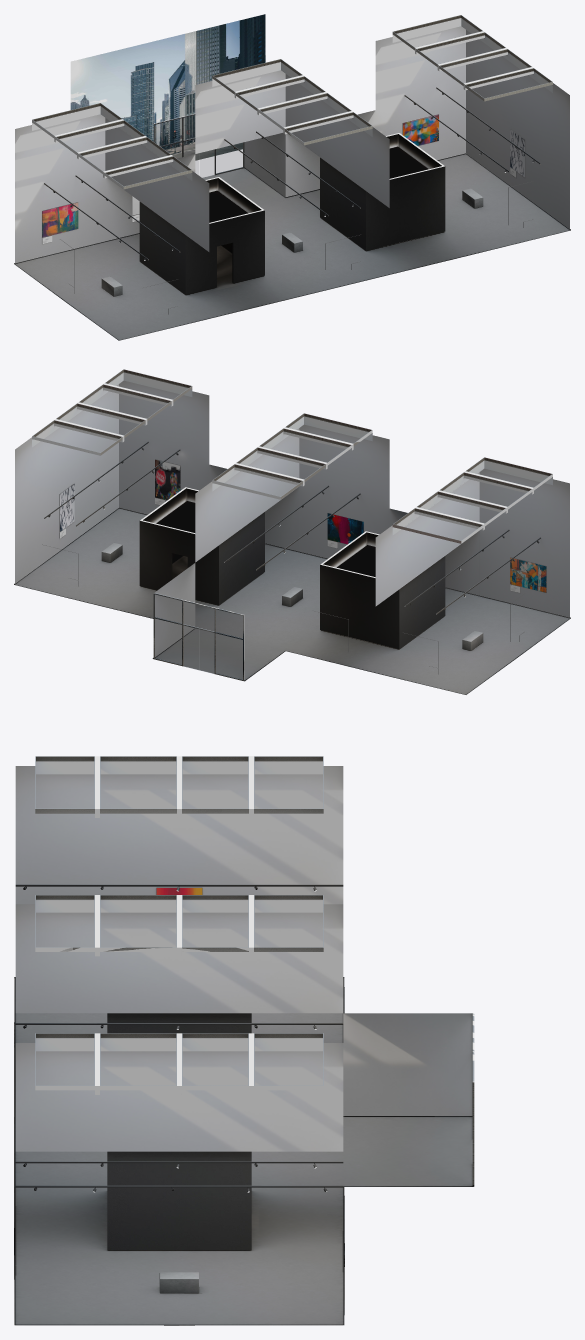
The picture shows the model from 3 angles, top to bottom: view 1: azimuth 30°, elevation 25°; view 2: azimuth 150°, elevation 25°; view 3: azimuth 270°, elevation 25°; orthographic projection. The views are drawn at different scales.
Parts seen in each view (by area): view 1: walls, floor, box, outside, window, paintings, glass, lamps, bench; view 2: walls, floor, box, window, glass, paintings, lamps, bench; view 3: walls, floor, box, window, lamps, bench, paintings.
Part boxes in pixels (x1,y1,x2,y2): walls: [14, 18, 570, 340]; floor: [15, 154, 569, 340]; box: [139, 133, 445, 294]; outside: [70, 14, 265, 160]; window: [32, 15, 552, 189]; paintings: [42, 114, 532, 314]; glass: [155, 115, 242, 177]; lamps: [44, 87, 540, 260]; bench: [101, 188, 483, 296]; walls: [14, 372, 570, 694]; floor: [15, 508, 569, 694]; box: [139, 487, 445, 649]; window: [32, 369, 552, 680]; glass: [155, 595, 242, 678]; paintings: [42, 459, 546, 674]; lamps: [44, 441, 540, 614]; bench: [101, 543, 483, 650]; walls: [14, 756, 474, 1325]; floor: [15, 1013, 472, 1324]; box: [107, 1013, 251, 1250]; window: [35, 756, 474, 1186]; lamps: [15, 884, 343, 1192]; bench: [159, 1272, 198, 1293]; paintings: [15, 887, 343, 1293].
Size of what is drawn, in the model's own units: 988 by 329 by 669.
21 materials, 17 textured.
